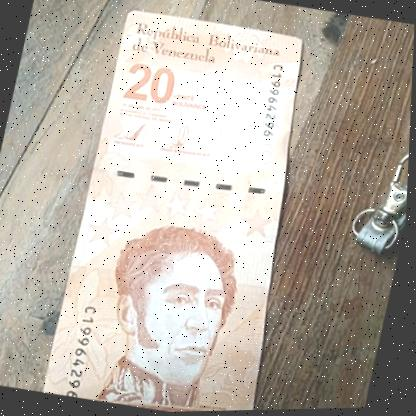twenty-front-vef: (41, 5, 340, 415)
